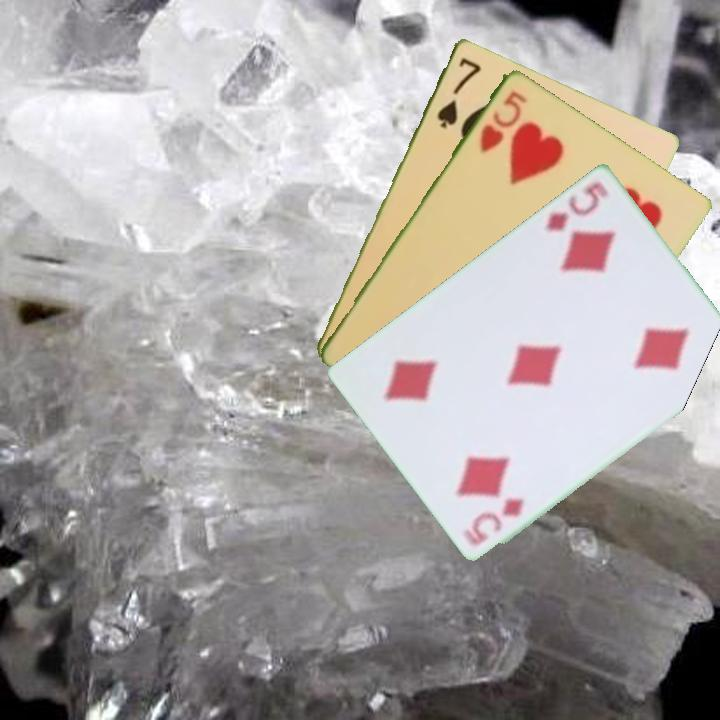5d: (542, 177, 612, 234), (458, 493, 528, 548)
5h: (476, 86, 530, 155)
7s: (433, 53, 484, 131)
